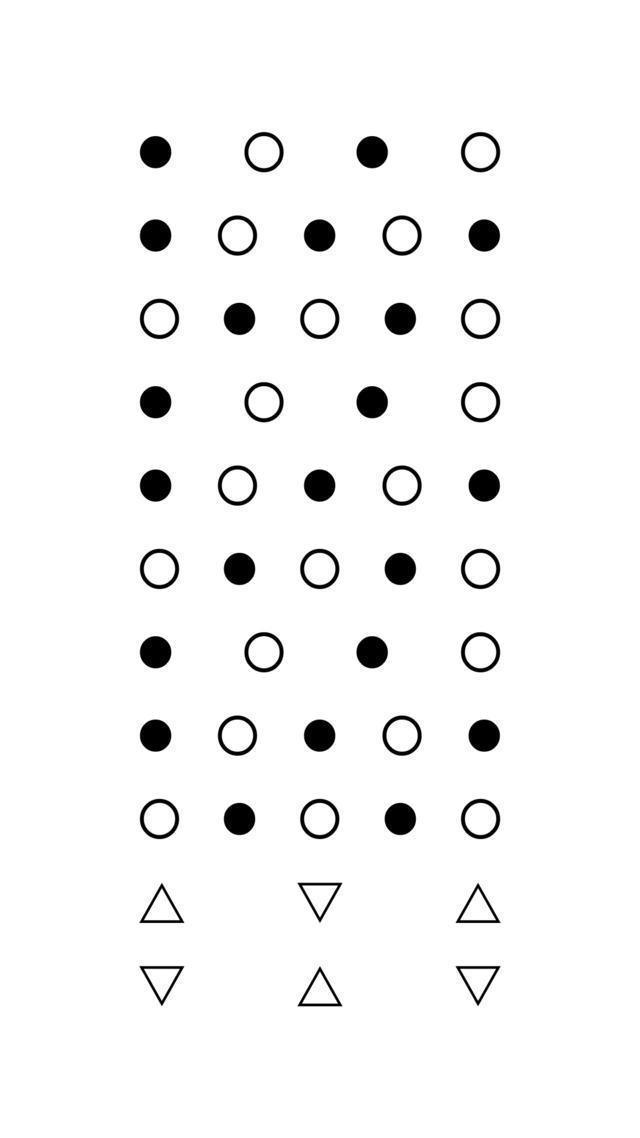ASCII: (453, 956, 505, 1016), (136, 959, 188, 1017), (294, 964, 346, 1016), (296, 876, 347, 929), (454, 879, 504, 932), (137, 878, 187, 930), (380, 210, 426, 263), (456, 128, 504, 178), (212, 462, 262, 509), (457, 294, 505, 342), (454, 628, 504, 674), (296, 544, 343, 592), (297, 294, 343, 342), (134, 546, 182, 592), (241, 377, 286, 426), (380, 713, 426, 760), (298, 794, 343, 842), (136, 796, 182, 842), (240, 628, 286, 674), (458, 795, 503, 842), (458, 378, 502, 426), (457, 546, 503, 591), (216, 713, 260, 760), (135, 297, 181, 341), (381, 462, 424, 508), (136, 126, 176, 174), (136, 212, 176, 260), (243, 130, 286, 174), (218, 212, 258, 258), (352, 126, 390, 173), (302, 213, 340, 259), (351, 634, 394, 674), (137, 380, 176, 424), (218, 548, 260, 588), (298, 716, 338, 758), (354, 381, 390, 427), (464, 215, 506, 254), (135, 466, 176, 505), (221, 798, 258, 840), (221, 298, 259, 338), (138, 631, 174, 673), (300, 465, 338, 504), (382, 550, 421, 588), (464, 466, 502, 504), (382, 798, 418, 838), (382, 297, 418, 335), (466, 718, 504, 754), (138, 718, 174, 754)
